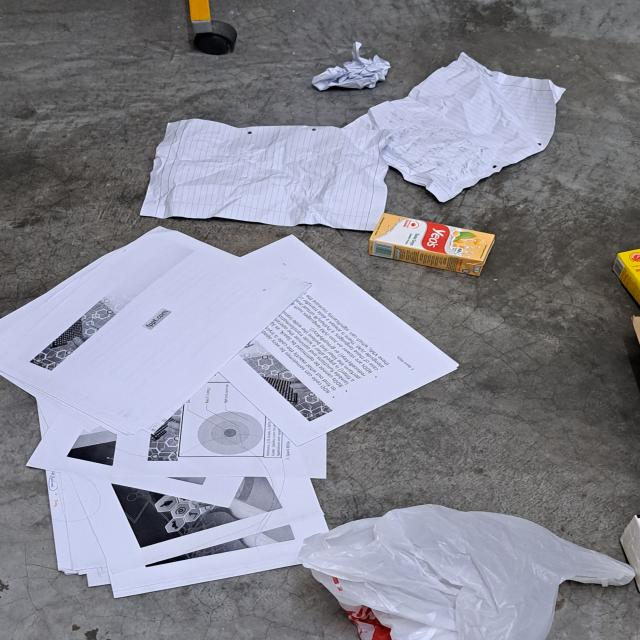drink carton: (369, 212, 497, 278), (613, 248, 640, 310)
paper: (0, 223, 463, 605), (342, 50, 567, 204), (140, 118, 388, 230), (312, 42, 389, 92)
plastic bag: (298, 502, 635, 640)
